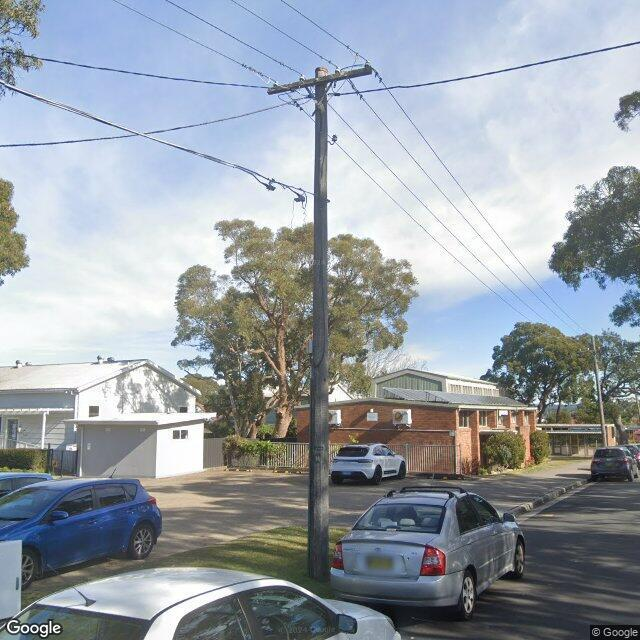crossarm: (265, 61, 373, 102)
timber-pole: (305, 65, 327, 576)
